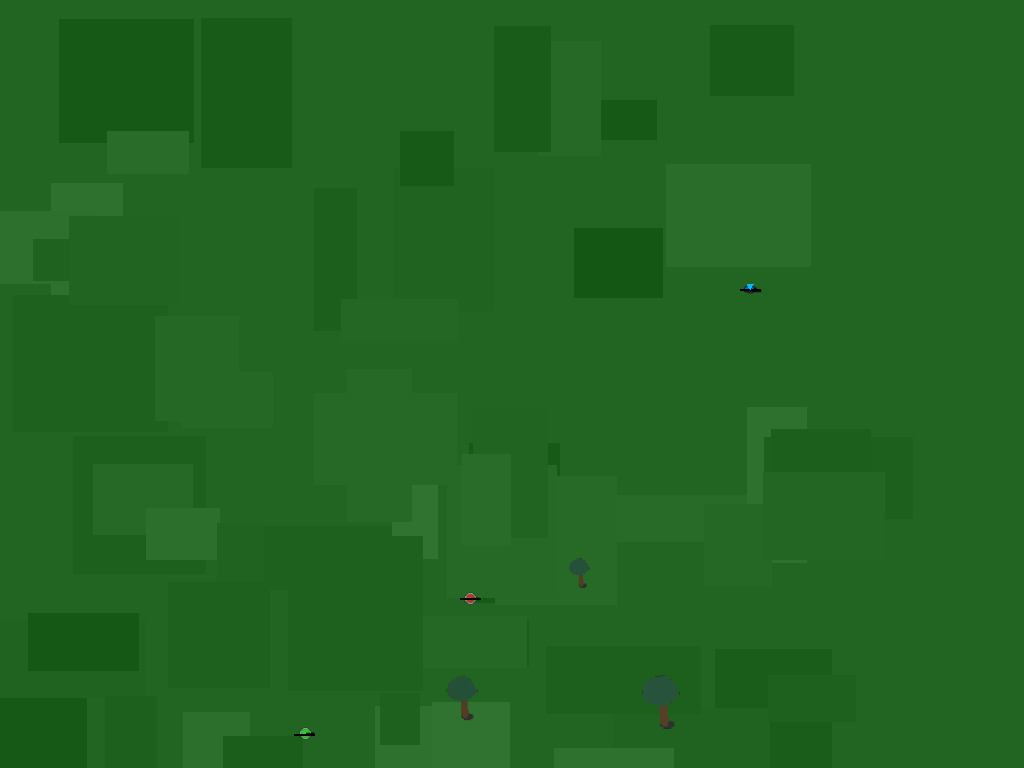PowerPlant: (455, 583, 483, 611), (290, 718, 318, 746)
Sniper: (736, 274, 764, 302)
